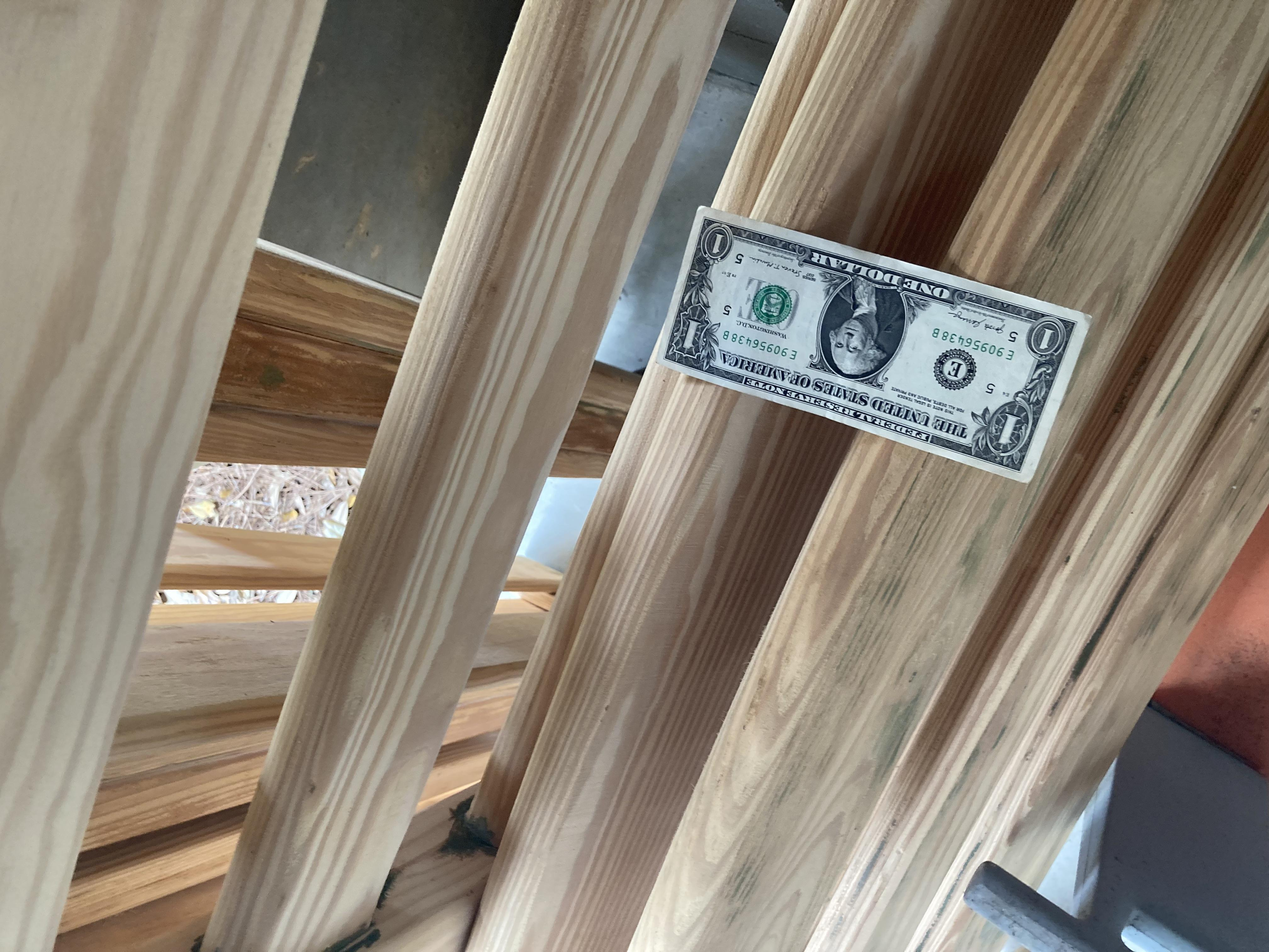one-front: (622, 491, 998, 819)
